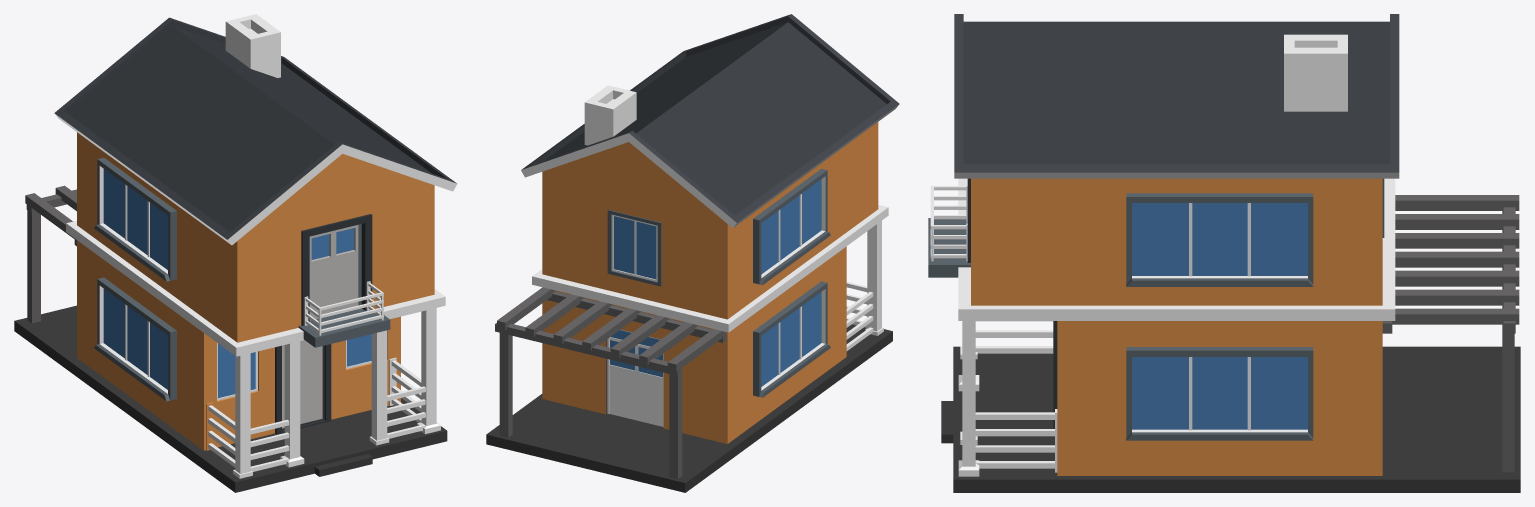
Rendered from House_2.fbx.
3 views of the same model, side by side, from view 1: azimuth 30°, elevation 25°; view 2: azimuth 150°, elevation 25°; view 3: azimuth 270°, elevation 25° (orthographic). The views are drawn at different scales.
Visible parts, largest first — view 1: House_2; view 2: House_2; view 3: House_2.
Boxes of the visible parts, box(x1,y1,x2,y2) form: House_2: box(14, 14, 457, 492); House_2: box(486, 14, 899, 492); House_2: box(928, 14, 1520, 492).
Size of the model in its own units: 559 by 752 by 971.
